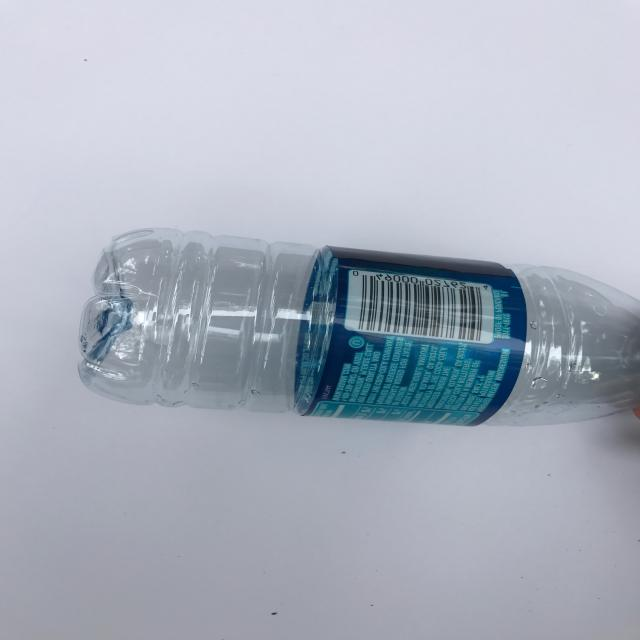plastic: (76, 226, 640, 427)
